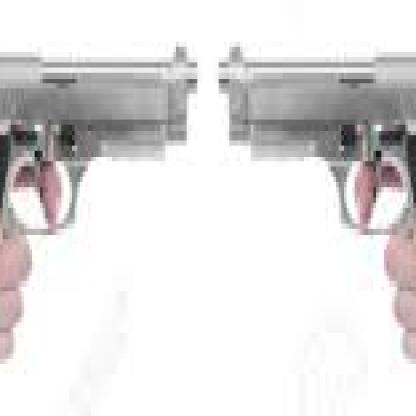gun: (0, 31, 203, 406), (211, 32, 413, 400)
